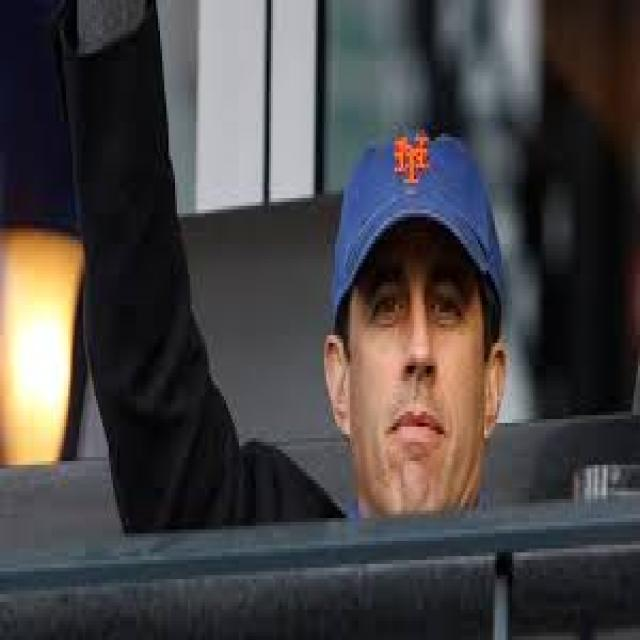3_gorra: (328, 119, 508, 310)
